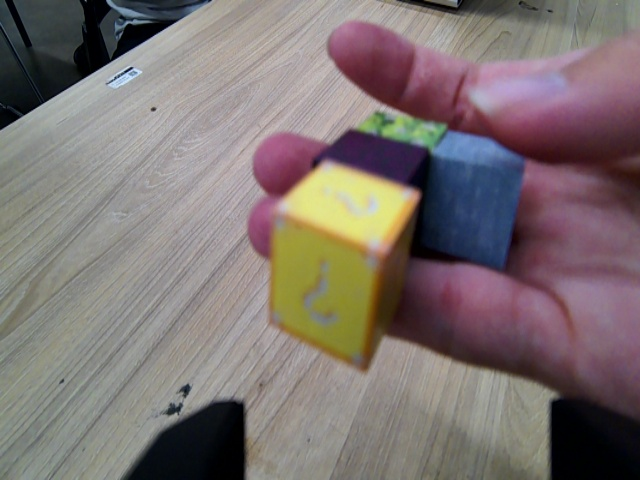brick: (313, 125, 428, 184)
grass: (358, 101, 445, 147)
lucky: (259, 162, 423, 369)
stone: (432, 122, 523, 271)
